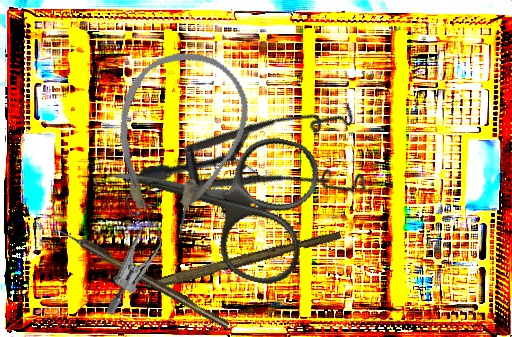Cannula: (93, 37, 261, 244)
Hook Surgical: (55, 223, 231, 331)
Iris Scissors: (99, 102, 326, 291)
Scalpel Handle: (144, 226, 343, 296)
Speculum: (136, 49, 395, 292), (86, 186, 174, 316)
